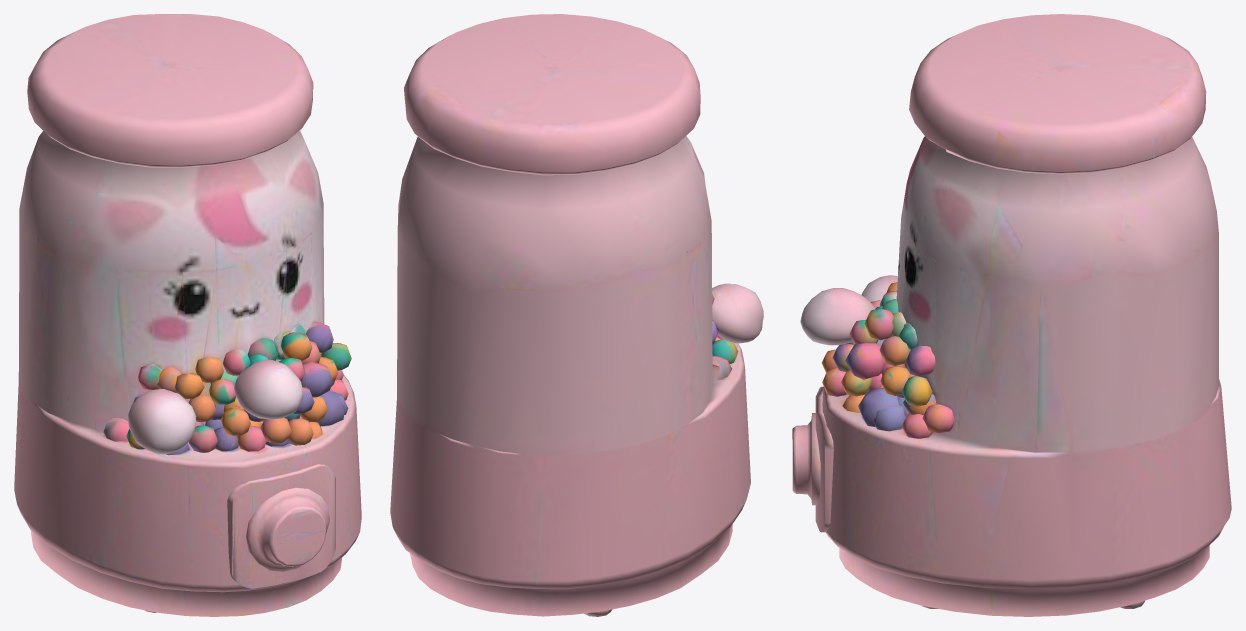
The picture shows the model from 3 angles, left to right: view 1: azimuth 30°, elevation 25°; view 2: azimuth 150°, elevation 25°; view 3: azimuth 270°, elevation 25°; orthographic projection. The views are drawn at different scales.
Bounding box in the file's own units: 0.5884 × 0.9526 × 0.7646.
Materials: 1 (1 with a texture image).
